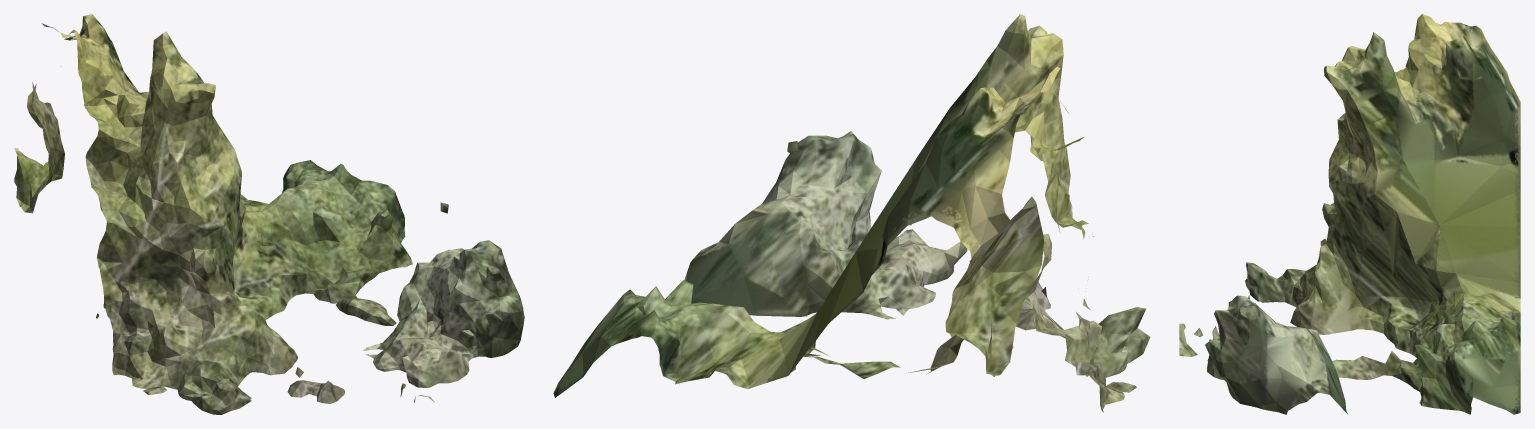
3 views of the same model, side by side, from view 1: azimuth 30°, elevation 25°; view 2: azimuth 150°, elevation 25°; view 3: azimuth 270°, elevation 25° (orthographic). The views are drawn at different scales.
Size of the model in its own units: 11.8 by 10.05 by 11.8.
Materials: 4 (4 with a texture image).
